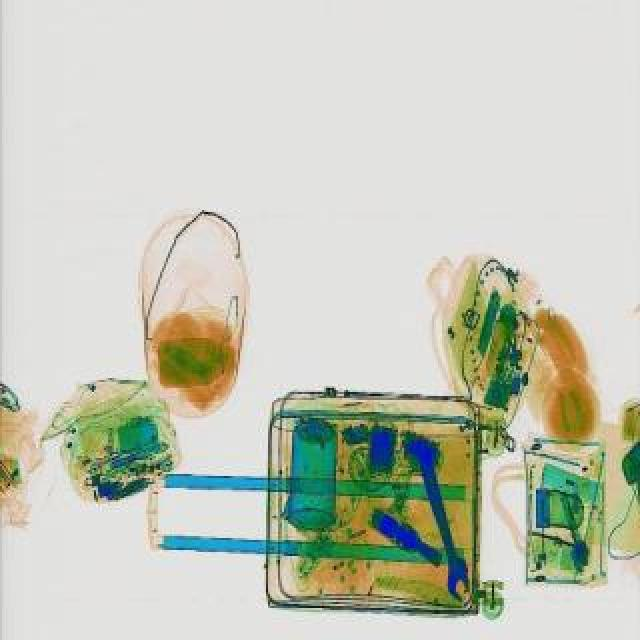scissors: (402, 438, 478, 602)
